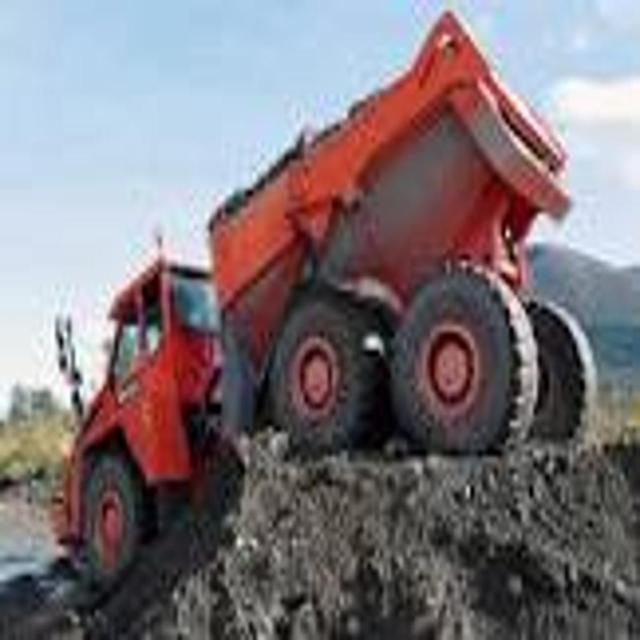dump_truck: (50, 23, 599, 629)
